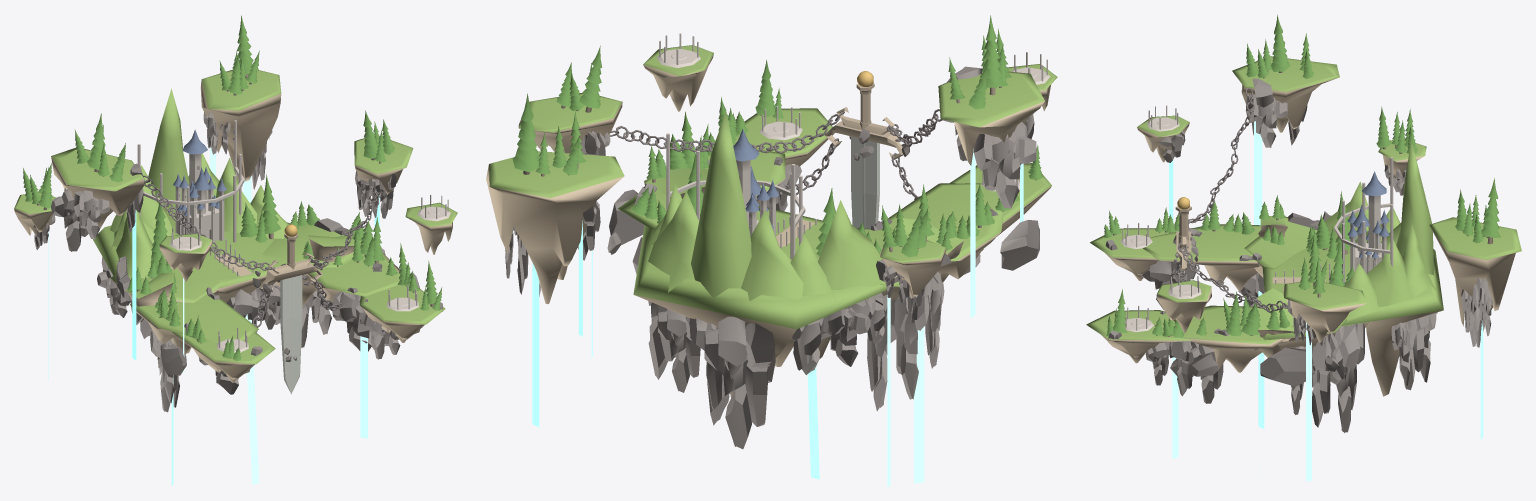
Rendered from island_2.glb.
3 views of the same model, side by side, from view 1: azimuth 30°, elevation 25°; view 2: azimuth 150°, elevation 25°; view 3: azimuth 270°, elevation 25° (orthographic). The views are drawn at different scales.
Parts seen in each view (by area): view 1: Fantasy_Island_-_Project; view 2: Fantasy_Island_-_Project; view 3: Fantasy_Island_-_Project.
Boxes of the visible parts, <box> form: Fantasy_Island_-_Project: <box>14,15,457,486</box>; Fantasy_Island_-_Project: <box>486,15,1057,486</box>; Fantasy_Island_-_Project: <box>1086,14,1521,482</box>.
Size of the model in its own units: 40.5 by 41.16 by 40.58.
